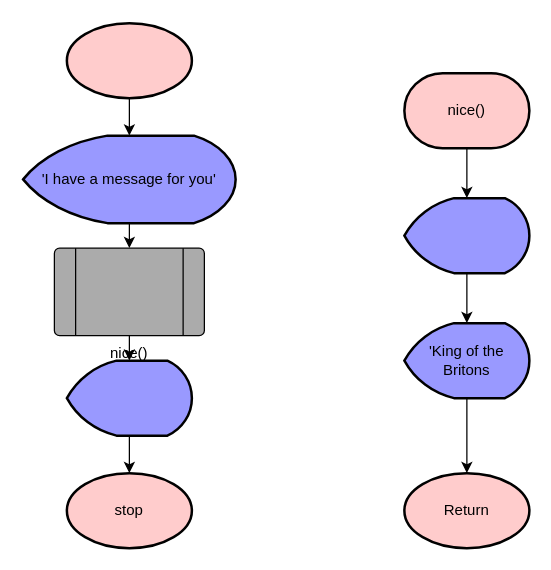
Some shapes in this 551 by 570 pixel diagram are drawn without their labels. The shapes that lost their labels are listed below. From the top down, each one's centre as x and y in pixels, then its label:
At point 128,60: "start".
At point 466,235: "'I am Arthur'".
At point 128,397: "'Goodbye!'".
